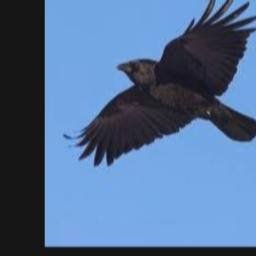Crow: (63, 0, 256, 166)
